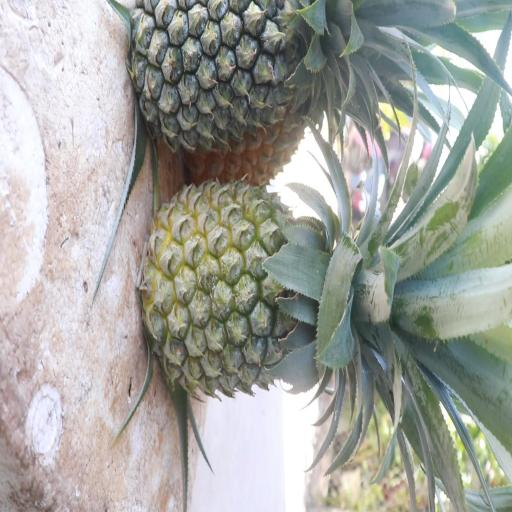------------------------------: (132, 179, 448, 403)
